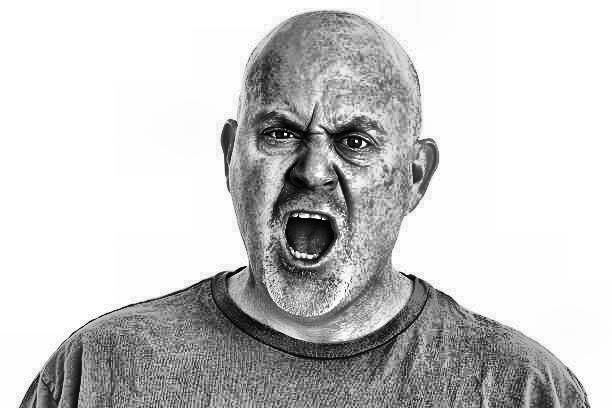angry: (208, 11, 452, 329)
